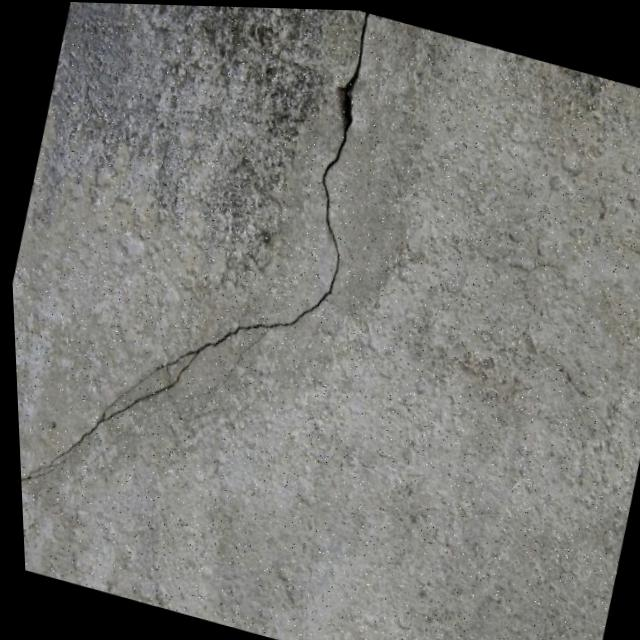Crack: (0, 0, 433, 607)
